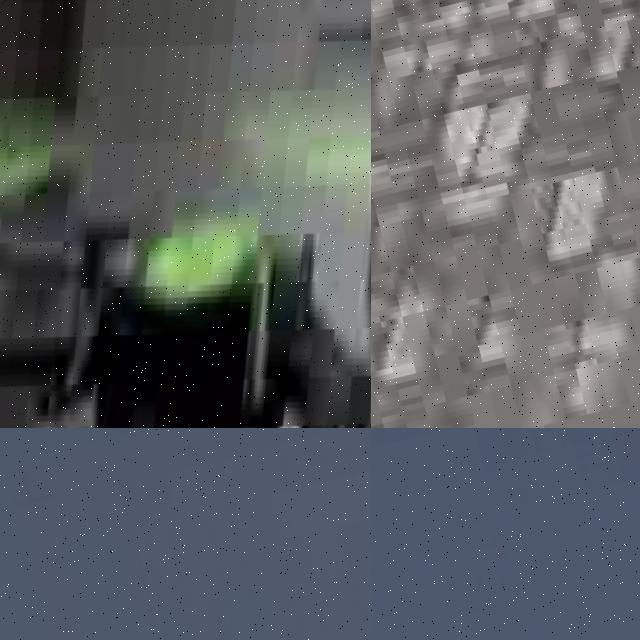drone: (0, 0, 371, 428)
